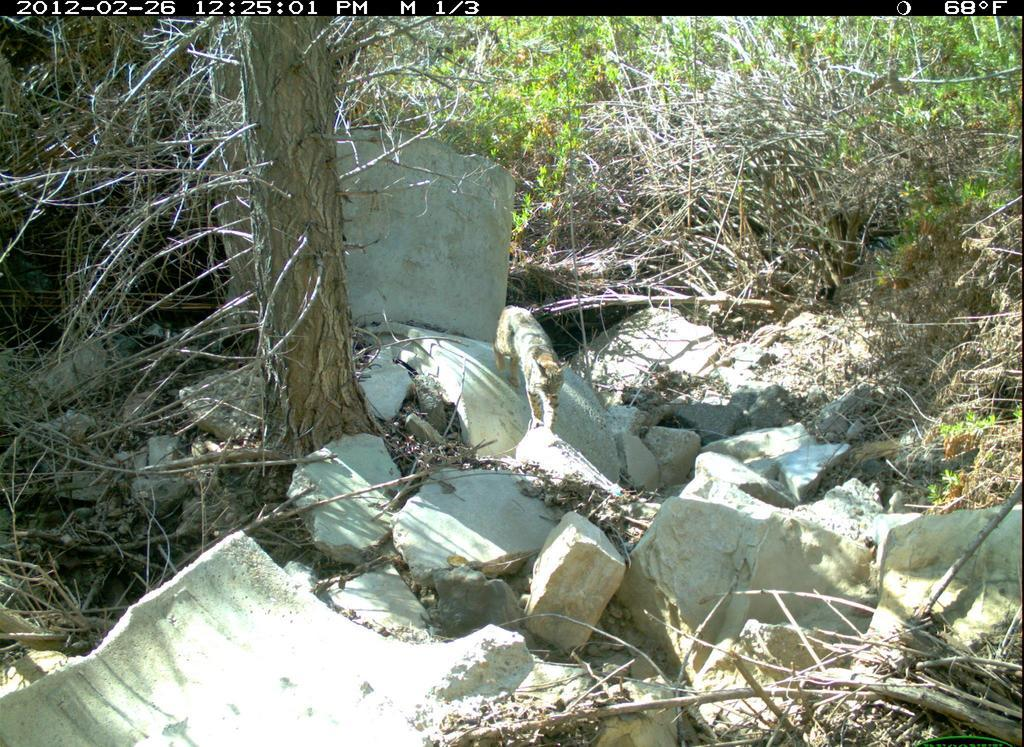bobcat: (479, 297, 589, 438)
